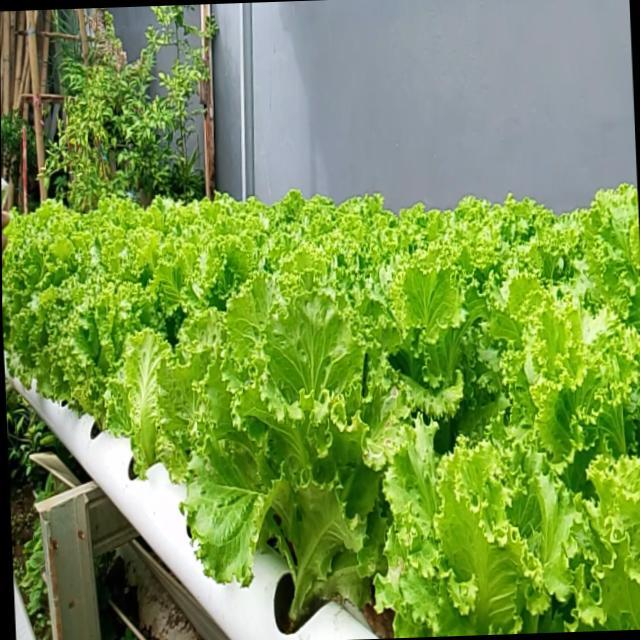Mature: (2, 187, 640, 638), (173, 291, 405, 638), (43, 280, 153, 451)
